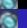mirror: (0, 9, 18, 28), (0, 0, 18, 9)
